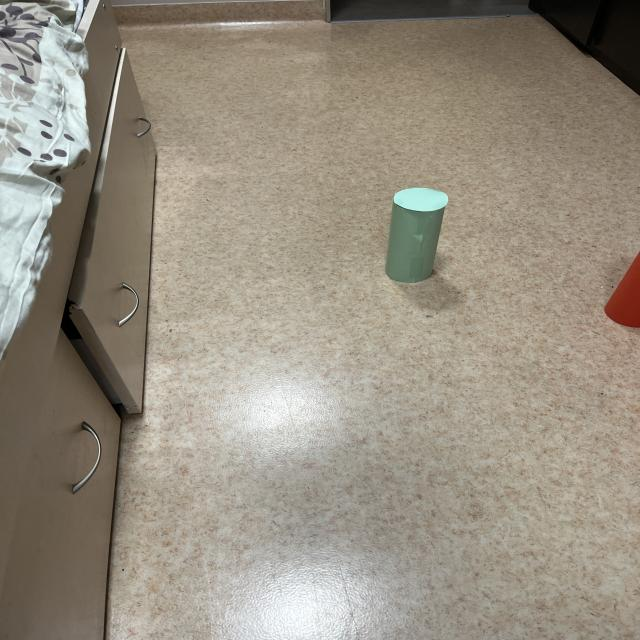meta: (386, 188, 448, 283)
